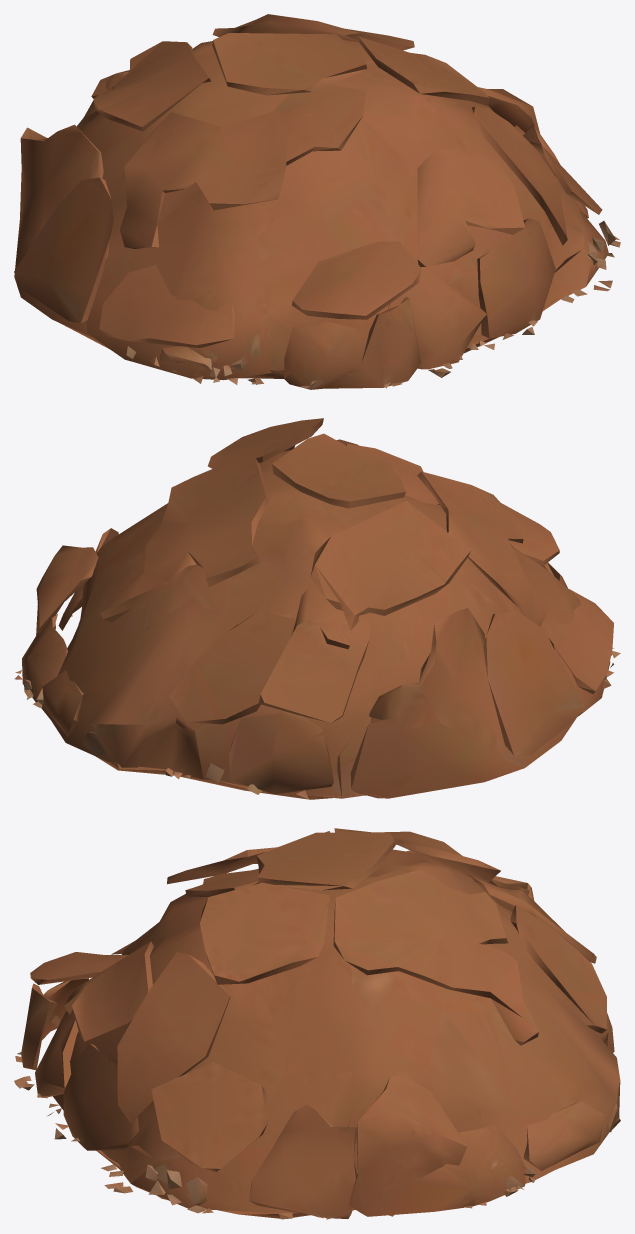
Rendered from resource_clay_1.glb.
3 views of the same model, one above another, from view 1: azimuth 30°, elevation 25°; view 2: azimuth 150°, elevation 25°; view 3: azimuth 270°, elevation 25° (orthographic). The views are drawn at different scales.
Parts seen in each view (by area): view 1: MeshyGear_resource_clay; view 2: MeshyGear_resource_clay; view 3: MeshyGear_resource_clay.
Part boxes in pixels (x1=…): MeshyGear_resource_clay: x1=14, y1=14, x2=620, y2=389; MeshyGear_resource_clay: x1=14, y1=418, x2=620, y2=799; MeshyGear_resource_clay: x1=14, y1=828, x2=620, y2=1219.
Size of what is drawn, in the model's own units: 2.4 by 1.03 by 2.41.
1 material, 1 textured.
